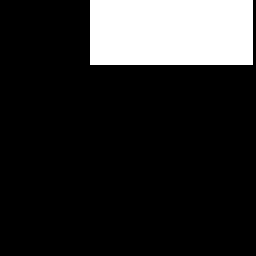rumex: (90, 0, 252, 64)
